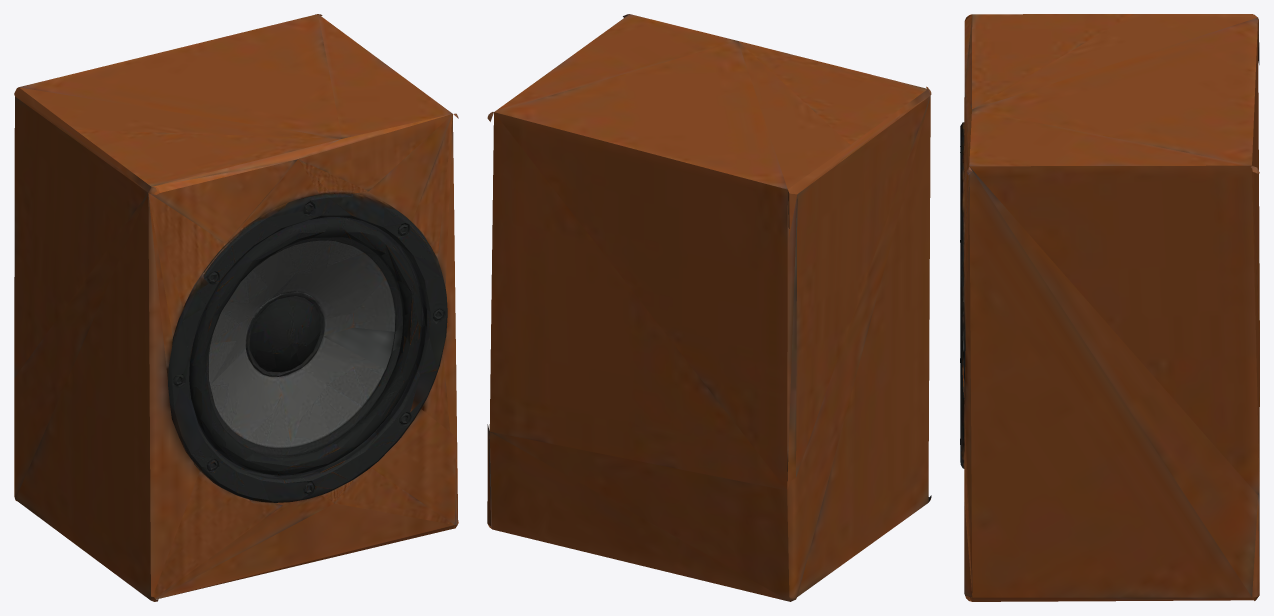
Rendered from loudspeaker.glb.
The picture shows the model from 3 angles, left to right: view 1: azimuth 30°, elevation 25°; view 2: azimuth 150°, elevation 25°; view 3: azimuth 270°, elevation 25°; orthographic projection. The views are drawn at different scales.
Parts seen in each view (by area): view 1: output_unwrapped; view 2: output_unwrapped; view 3: output_unwrapped.
Boxes of the visible parts, bbox=[...] form: output_unwrapped: bbox=[14, 14, 458, 601]; output_unwrapped: bbox=[487, 14, 931, 601]; output_unwrapped: bbox=[960, 14, 1259, 601].
Bounding box in the file's own units: 1.48 × 1.9 × 1.18.
Materials: 1 (1 with a texture image).
